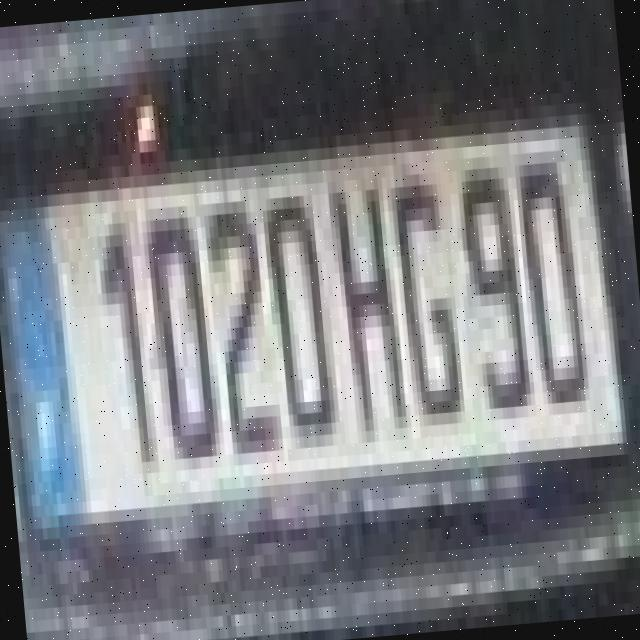Autre: (0, 122, 629, 529)
